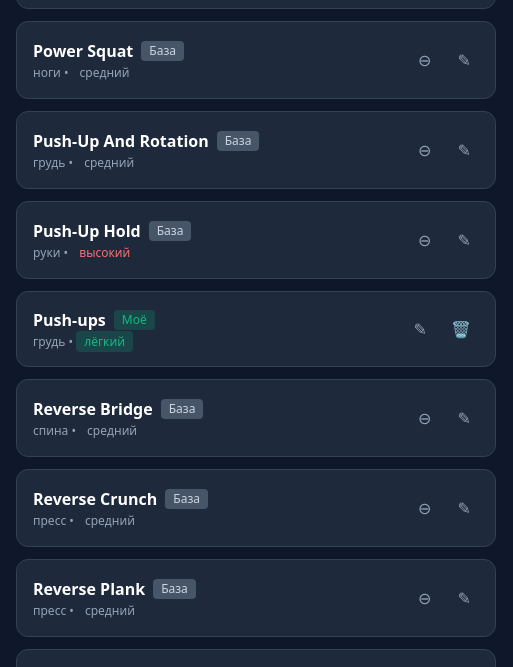
Test: ScreenDatabase › удаление: подтверждение → упражнение исчезает из списка
(page scrolled)
Click the button named "удалить".
click(461, 329)  # box [443,309,479,349]
(page scrolled)
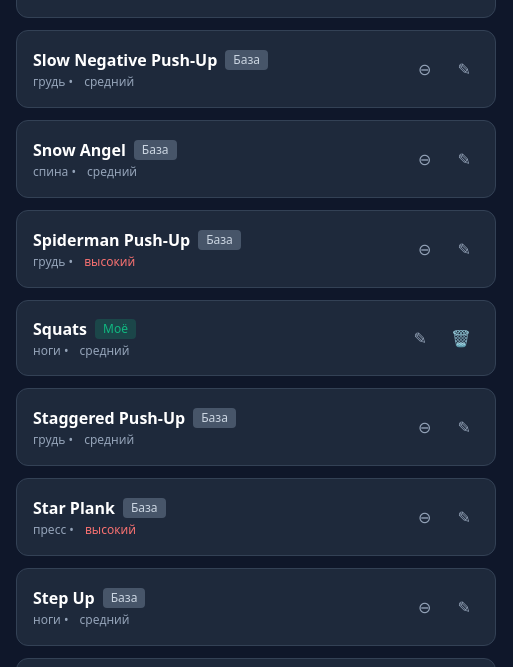
Expected: the heading "Squats" is shown, [33,317,87,341]
Expected: the heading "Push-ups" is gone
